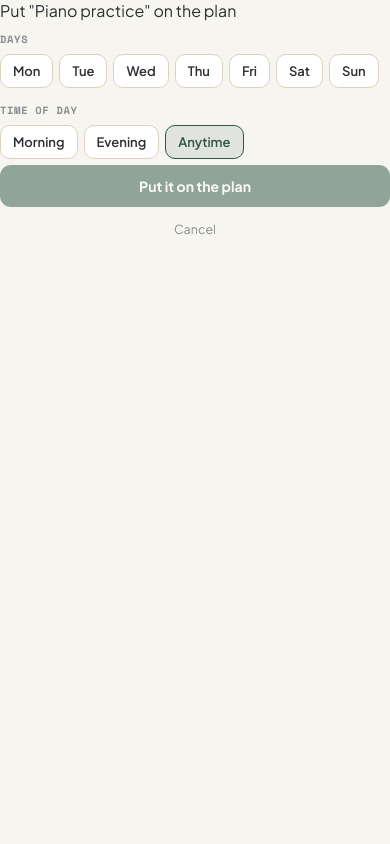
Test: ActivityScheduleSheet — composing the schedule › the primary action is disabled until at least one day is chosen
The image size is (390, 844).
Check: the button "Put it on the plan" is disabled, box x1=0 y1=165 x2=389 y2=207
Click the button "Tue": point(84, 71) x1=60 y1=54 x2=108 y2=88
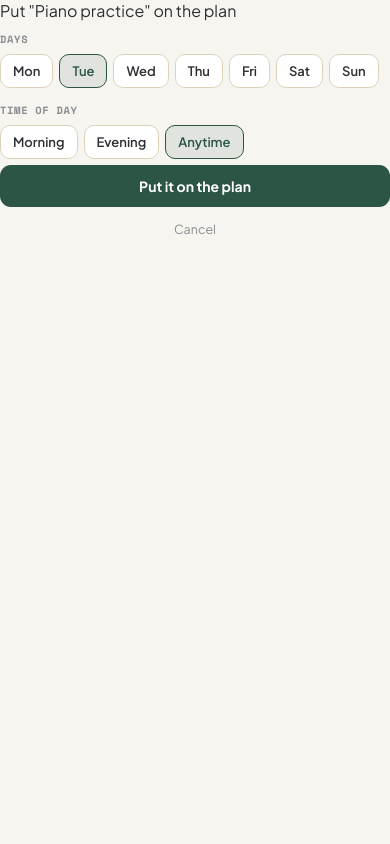
Check: the button "Put it on the plan" is enabled, box x1=0 y1=165 x2=389 y2=207
